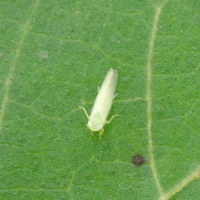insect: (79, 68, 117, 138)
